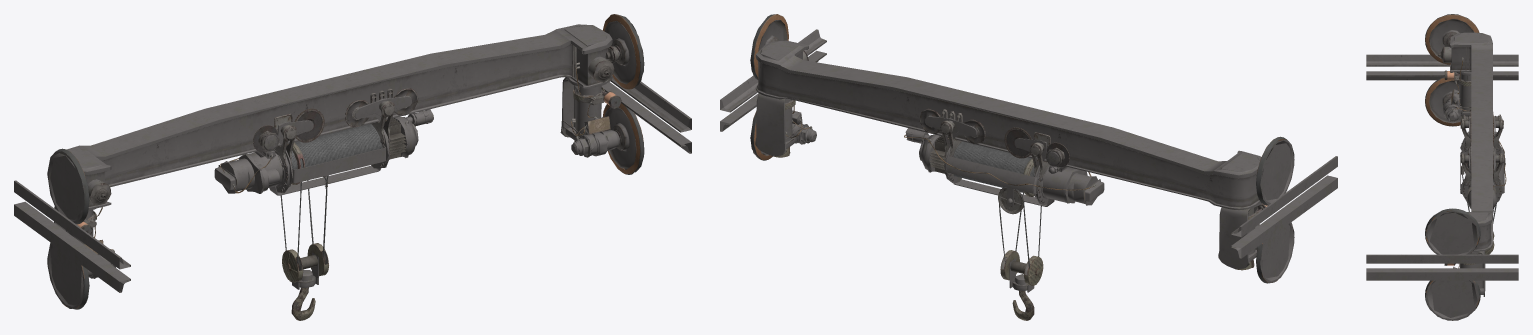
File: overhead_crane.slim.glb
3 views of the same model, side by side, from view 1: azimuth 30°, elevation 25°; view 2: azimuth 150°, elevation 25°; view 3: azimuth 270°, elevation 25° (orthographic). The views are drawn at different scales.
Bounding box in the file's own units: 12.49 × 5.13 × 4.
Materials: 2 (2 with a texture image).
